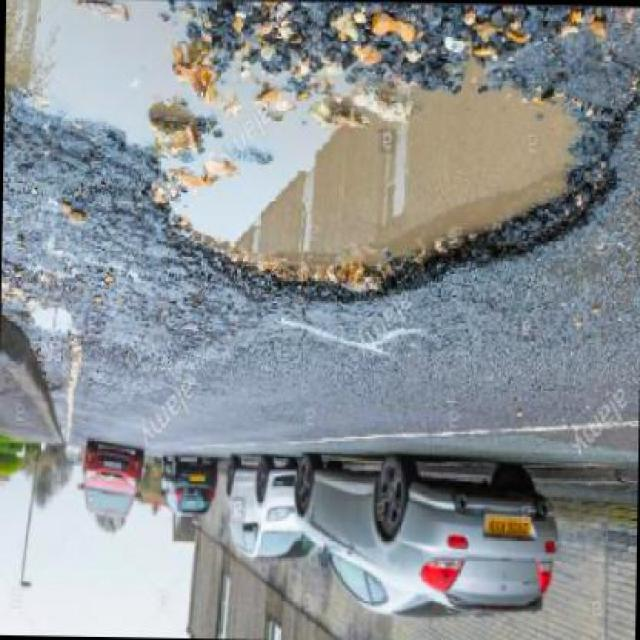pothole1: (140, 31, 626, 318), (3, 0, 230, 172), (30, 304, 78, 344)
